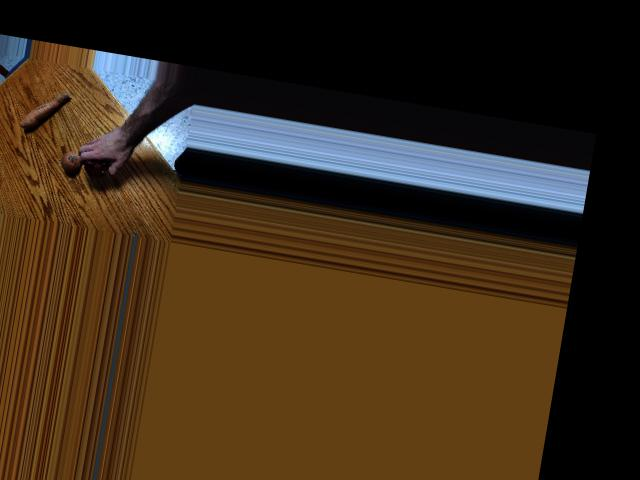onion: (60, 150, 85, 177)
